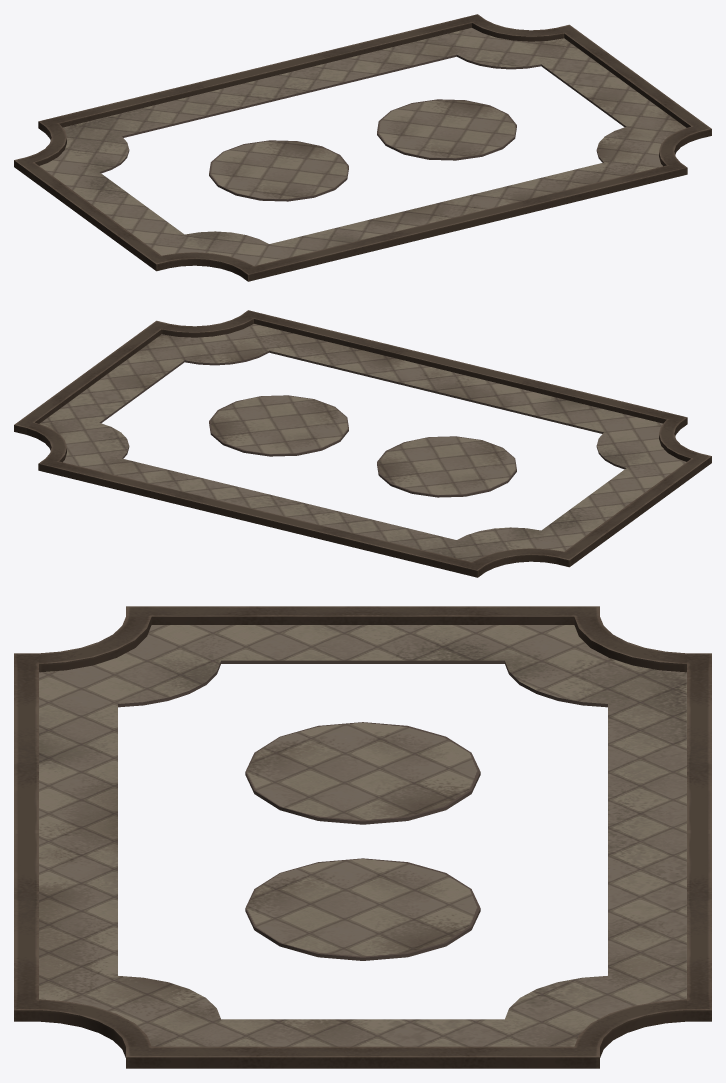
The model's file is T_PlazaFloor.fbx.
3 views of the same model, one above another, from view 1: azimuth 30°, elevation 25°; view 2: azimuth 150°, elevation 25°; view 3: azimuth 270°, elevation 25° (orthographic). The views are drawn at different scales.
Visible parts, largest first — view 1: PlazaFloor_; view 2: PlazaFloor_; view 3: PlazaFloor_.
Part boxes in pixels (box(x1,y1,x2,y2)): PlazaFloor_: box(14, 14, 711, 281); PlazaFloor_: box(14, 310, 711, 577); PlazaFloor_: box(14, 606, 711, 1068).
Size of the model in its own units: 1168 by 13.88 by 764.
